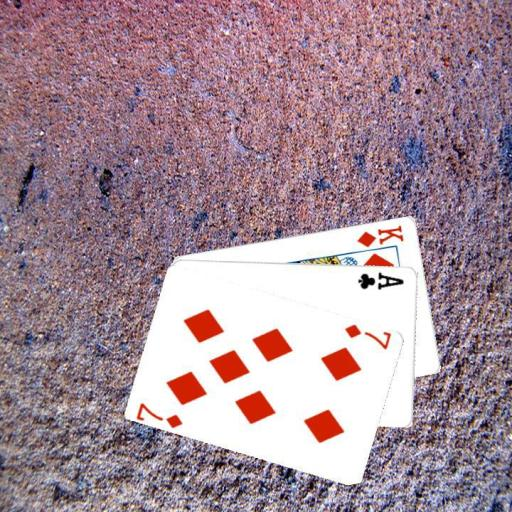7D: (342, 321, 393, 351), (134, 399, 185, 429)
AC: (356, 268, 406, 291)
KD: (354, 222, 406, 249)
